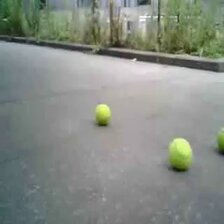tennis: (169, 138, 191, 168), (94, 103, 110, 121)
